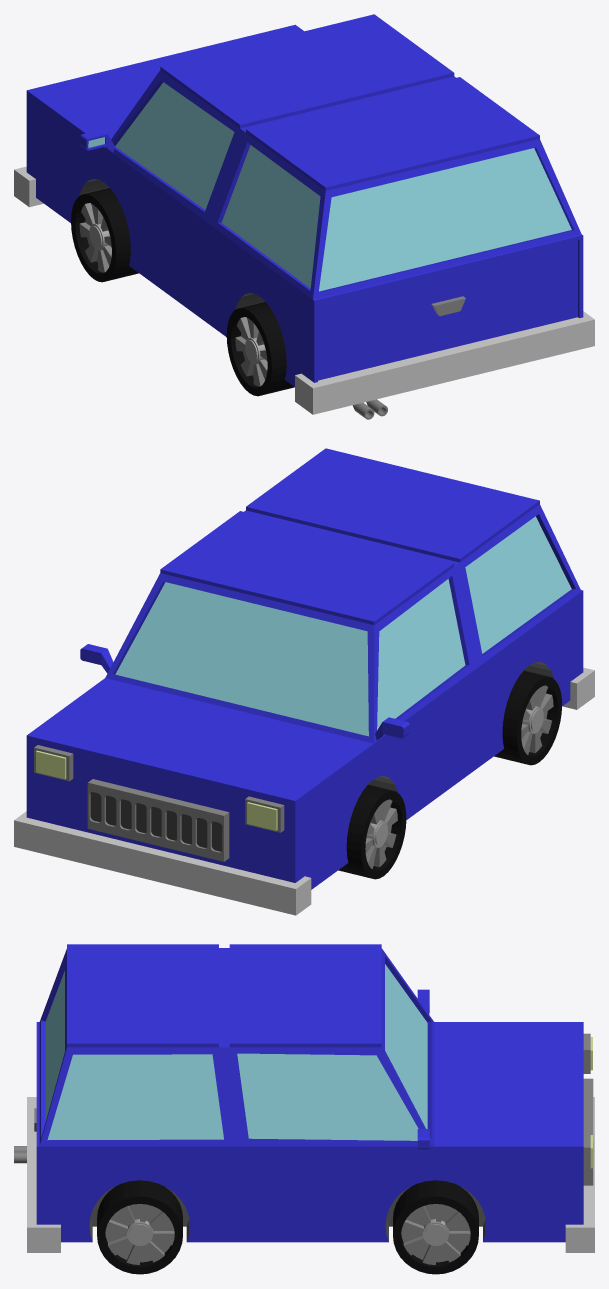
The model's file is car2.fbx.
The picture shows the model from 3 angles, top to bottom: view 1: azimuth 30°, elevation 25°; view 2: azimuth 150°, elevation 25°; view 3: azimuth 270°, elevation 25°; orthographic projection. The views are drawn at different scales.
Visible parts, largest first — view 1: Car2; view 2: Car2; view 3: Car2.
Part boxes in pixels (left/top/right/bottom): Car2: left=14, top=14, right=594, bottom=419; Car2: left=14, top=448, right=594, bottom=915; Car2: left=14, top=944, right=594, bottom=1274.
Size of the model in its own units: 132 by 87.79 by 217.
